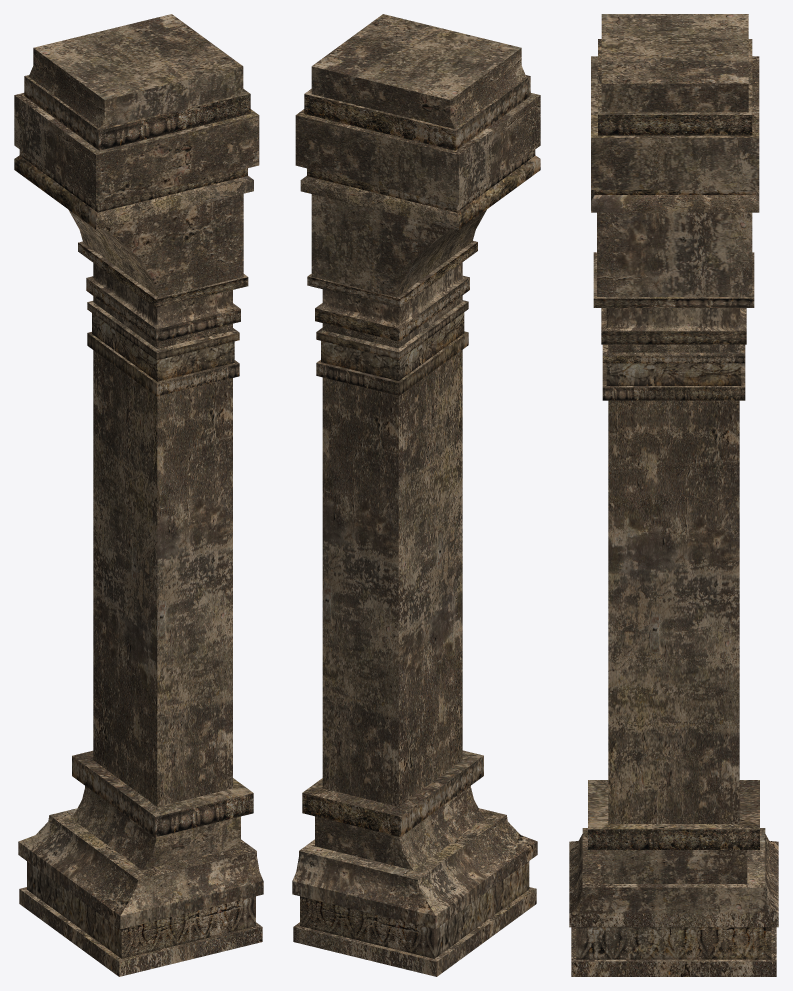
File: materials_5_pillar_long_15.fbx
The picture shows the model from 3 angles, left to right: view 1: azimuth 30°, elevation 25°; view 2: azimuth 150°, elevation 25°; view 3: azimuth 270°, elevation 25°; orthographic projection. The views are drawn at different scales.
Visible parts, largest first — view 1: materials_5_pillar_long_15; view 2: materials_5_pillar_long_15; view 3: materials_5_pillar_long_15.
Part boxes in pixels (x1,y1,x2,y2): materials_5_pillar_long_15: [14, 14, 263, 976]; materials_5_pillar_long_15: [292, 14, 540, 976]; materials_5_pillar_long_15: [569, 14, 778, 976].
Bounding box in the file's own units: 126 × 639 × 136.
